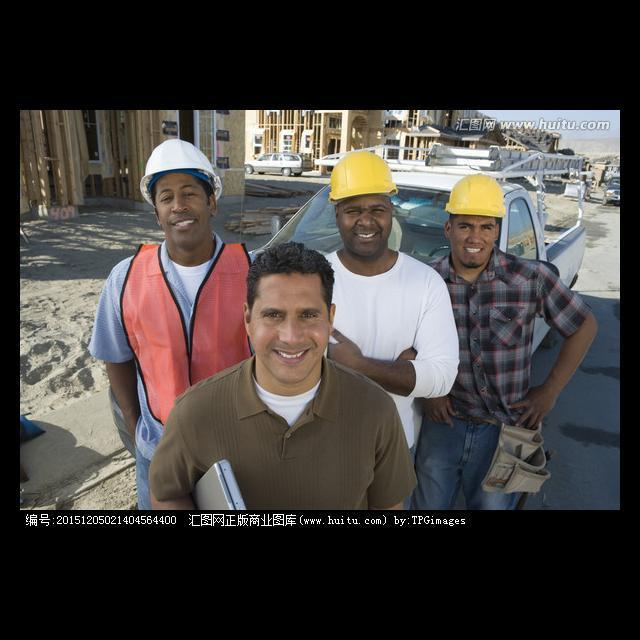Capacete: (140, 139, 221, 205), (329, 151, 397, 201), (445, 175, 505, 217)
Colete: (121, 244, 250, 423)
